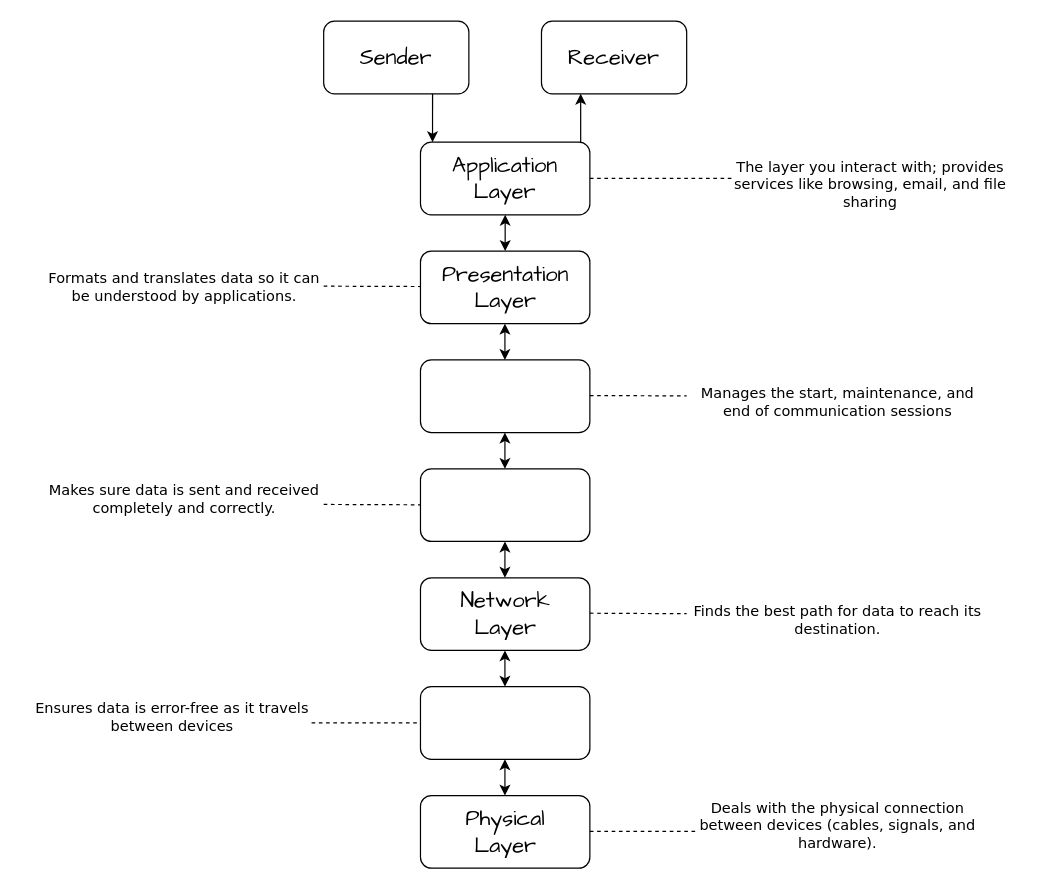
Image size: 1042x889. Some labels were removed from this diagram. Each missing label, with the centre of its shape:
"Data Link Layer" belongs at [504,722].
"Session Layer" belongs at [504,396].
"Transport Layer" belongs at [504,504].
